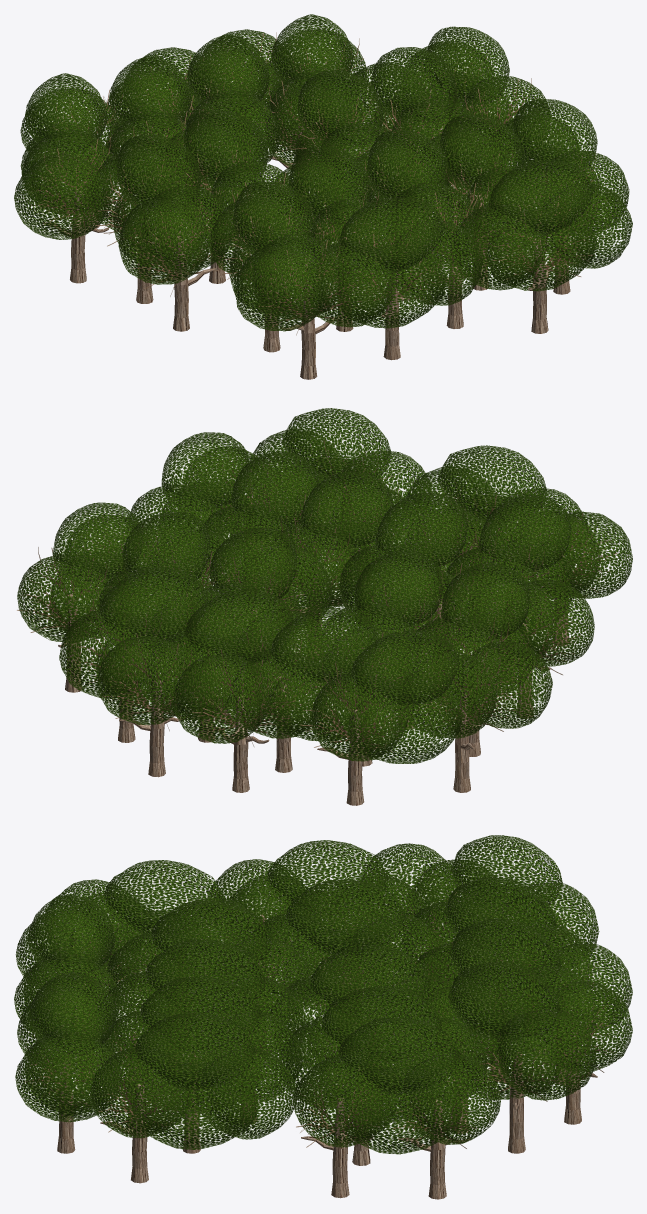
The model's file is forest.glb.
3 renders of one model, top to bottom at view 1: azimuth 30°, elevation 25°; view 2: azimuth 150°, elevation 25°; view 3: azimuth 270°, elevation 25°, orthographic. The views are drawn at different scales.
Visible parts, largest first — view 1: Mball.067, Mball.066, Mball.004, Mball.009, Mball.065, Mball.006, Mball.010, Mball.011, Mball.007, Mball.005, Mball.037, Mball.061 (+69 smaller); view 2: Mball.068, Mball.041, Mball.043, Mball.067, Mball.069, Mball.045, Mball.053, Mball.049, Mball.004, Mball.059, Mball.009, Mball.044 (+67 smaller); view 3: Mball.029, Mball.057, Mball.007, Mball.037, Mball.055, Mball.058, Mball.053, Mball.031, Mball.059, Mball.030, Mball.032, Mball.013 (+58 smaller).
Boxes of the visible parts, x1,y1,x2,y2 form: Mball.067: (14, 153, 110, 239); Mball.066: (118, 199, 209, 284); Mball.004: (488, 160, 594, 236); Mball.009: (338, 197, 444, 273); Mball.065: (234, 246, 327, 331); Mball.006: (452, 205, 546, 290); Mball.010: (302, 242, 397, 327); Mball.011: (388, 220, 483, 305); Mball.007: (538, 183, 632, 268); Mball.005: (297, 70, 383, 147); Mball.037: (183, 110, 268, 188); Mball.061: (371, 47, 456, 124); Mball.068: (172, 654, 271, 743); Mball.041: (350, 630, 459, 707); Mball.043: (310, 672, 409, 761); Mball.067: (455, 640, 552, 728); Mball.069: (97, 636, 194, 725); Mball.045: (270, 607, 379, 684); Mball.053: (99, 567, 208, 644); Mball.049: (184, 588, 293, 664); Mball.004: (282, 408, 391, 484); Mball.059: (17, 554, 113, 641); Mball.009: (438, 445, 547, 523); Mball.044: (347, 678, 462, 763); Mball.029: (134, 1012, 255, 1091); Mball.057: (338, 1017, 458, 1095); Mball.007: (15, 1030, 121, 1122); Mball.037: (285, 879, 405, 957); Mball.055: (495, 1009, 596, 1100); Mball.058: (293, 1056, 396, 1147); Mball.053: (448, 962, 560, 1041); Mball.031: (194, 1047, 297, 1139); Mball.059: (398, 1053, 500, 1144); Mball.030: (89, 1047, 192, 1138); Mball.032: (131, 1063, 257, 1149); Mball.013: (104, 860, 223, 938).
Size of the model in its own units: 81.24 by 26.33 by 82.44.
Materials: 3 (3 with a texture image).
